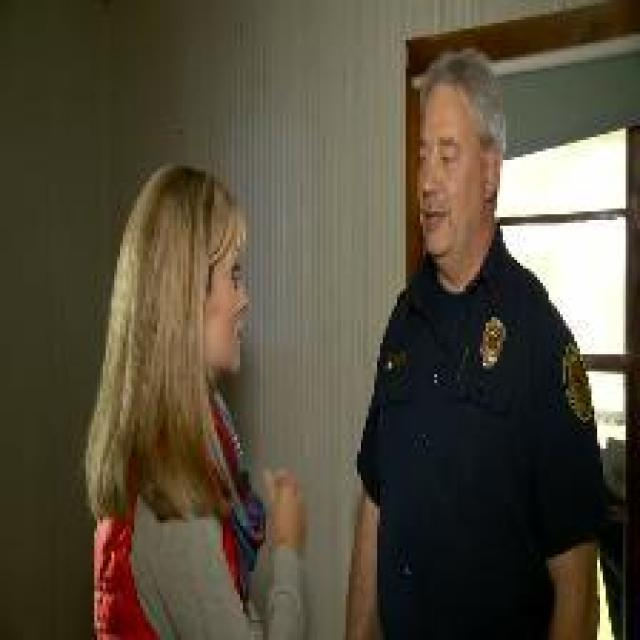other: (208, 414, 258, 570), (97, 427, 136, 624)
